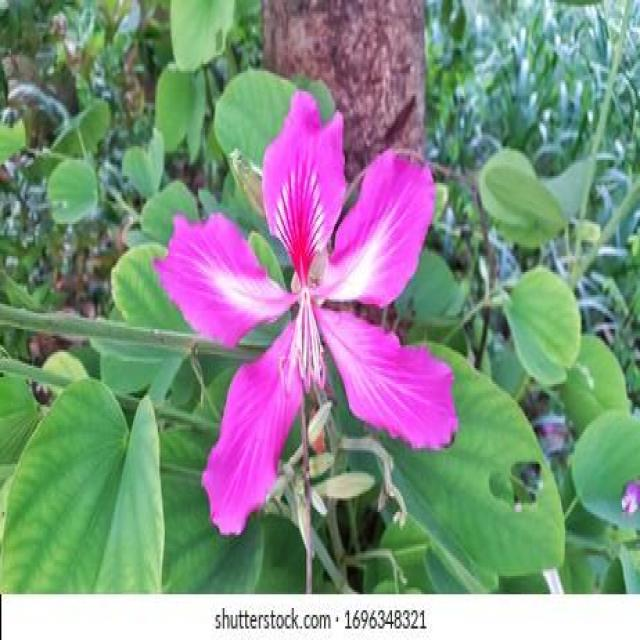organic waste: (147, 76, 460, 548)
